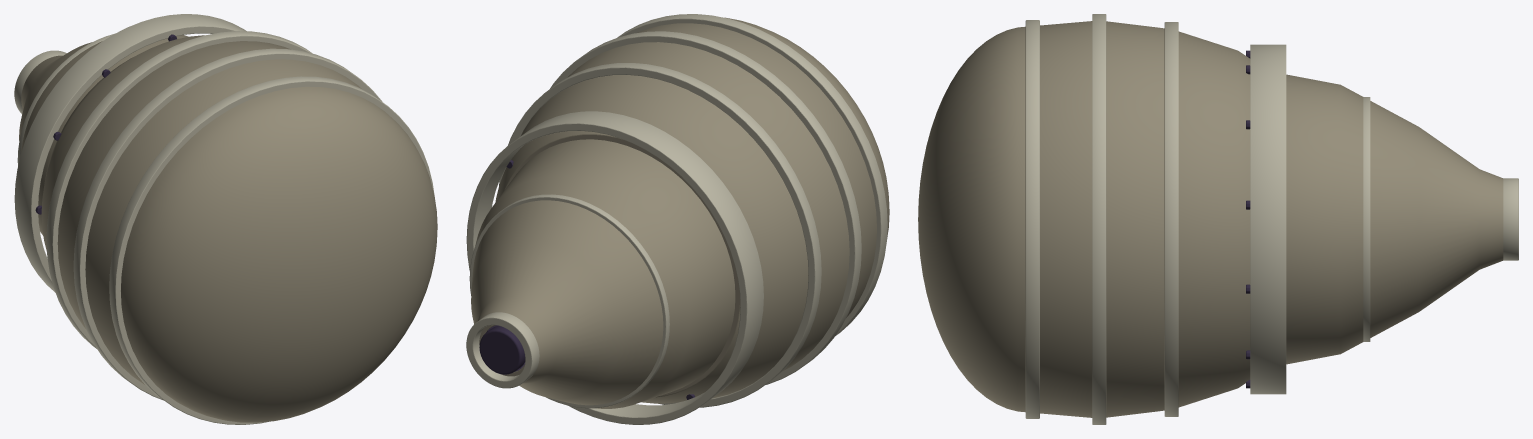
3 renders of one model, left to right at view 1: azimuth 30°, elevation 25°; view 2: azimuth 150°, elevation 25°; view 3: azimuth 270°, elevation 25°, orthographic. The views are drawn at different scales.
Parts seen in each view (by area): view 1: Continuous rounded front cap, Unbroken enclosure wall, Broad mounting collar, Enclosure reinforcing band, Enclosure reinforcing band.001, Enclosure reinforcing band.002, Rear enclosure, Tapered connector pressure shell, Connector terminal lip, Connector service ring; view 2: Tapered connector pressure shell, Rear enclosure, Unbroken enclosure wall, Broad mounting collar, Enclosure reinforcing band.002, Enclosure reinforcing band.001, Enclosure reinforcing band, Connector service ring, Connector terminal lip, Recessed connector interior, Continuous rounded front cap; view 3: Unbroken enclosure wall, Tapered connector pressure shell, Continuous rounded front cap, Rear enclosure, Broad mounting collar, Enclosure reinforcing band.001, Enclosure reinforcing band, Enclosure reinforcing band.002, Connector service ring, Connector terminal lip.
Part boxes in pixels (bbox=[...]): Continuous rounded front cap: bbox=[121, 86, 437, 422]; Unbroken enclosure wall: bbox=[57, 41, 361, 384]; Broad mounting collar: bbox=[14, 14, 246, 292]; Enclosure reinforcing band: bbox=[109, 76, 434, 424]; Enclosure reinforcing band.001: bbox=[73, 48, 382, 400]; Enclosure reinforcing band.002: bbox=[46, 31, 312, 348]; Rear enclosure: bbox=[41, 35, 204, 251]; Tapered connector pressure shell: bbox=[19, 35, 188, 235]; Connector terminal lip: bbox=[14, 50, 66, 114]; Connector service ring: bbox=[17, 33, 114, 165]; Tapered connector pressure shell: bbox=[471, 139, 735, 408]; Rear enclosure: bbox=[495, 75, 808, 403]; Unbroken enclosure wall: bbox=[567, 23, 876, 370]; Broad mounting collar: bbox=[466, 111, 763, 424]; Enclosure reinforcing band.002: bbox=[499, 63, 821, 407]; Enclosure reinforcing band.001: bbox=[550, 31, 861, 384]; Enclosure reinforcing band: bbox=[617, 14, 887, 335]; Connector service ring: bbox=[469, 194, 669, 408]; Connector terminal lip: bbox=[466, 312, 539, 388]; Recessed connector interior: bbox=[479, 325, 525, 374]; Continuous rounded front cap: bbox=[725, 17, 889, 238]; Unbroken enclosure wall: bbox=[1040, 21, 1164, 417]; Tapered connector pressure shell: bbox=[1286, 74, 1503, 364]; Continuous rounded front cap: bbox=[918, 26, 1025, 412]; Rear enclosure: bbox=[1178, 31, 1250, 407]; Broad mounting collar: bbox=[1250, 44, 1286, 394]; Enclosure reinforcing band.001: bbox=[1092, 14, 1106, 424]; Enclosure reinforcing band: bbox=[1025, 20, 1039, 418]; Enclosure reinforcing band.002: bbox=[1164, 22, 1178, 416]; Connector service ring: bbox=[1363, 97, 1370, 341]; Connector terminal lip: bbox=[1503, 178, 1518, 260].
Bounding box in the file's own units: 2.04 × 2.04 × 2.98.
